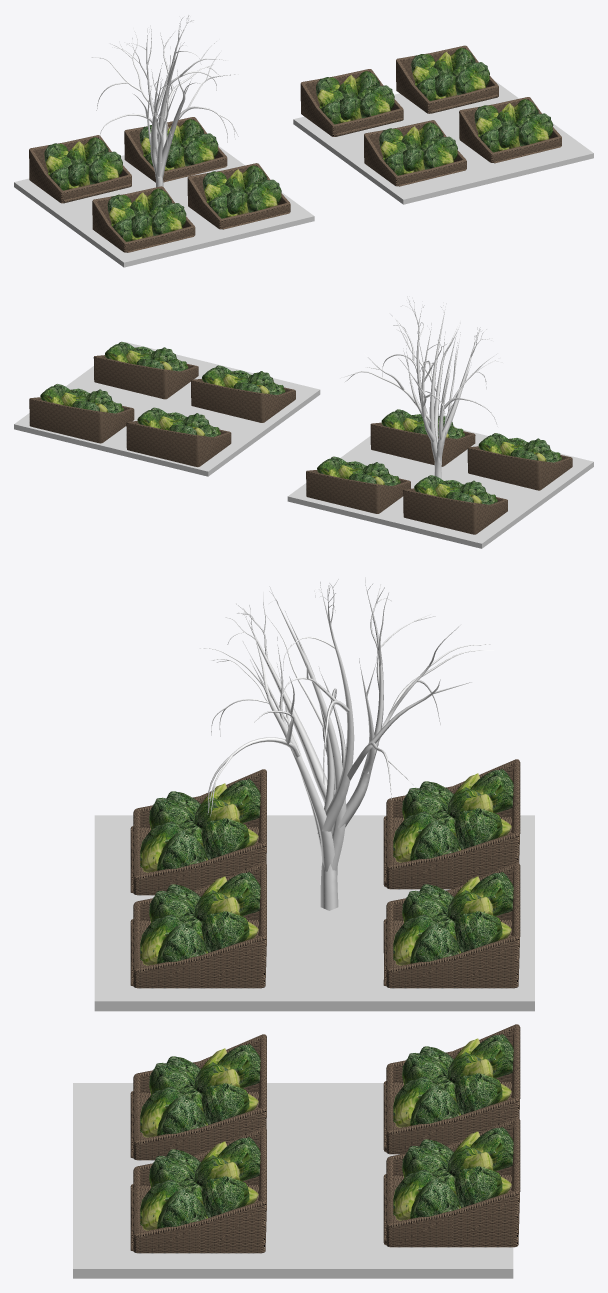
3 renders of one model, top to bottom at view 1: azimuth 30°, elevation 25°; view 2: azimuth 150°, elevation 25°; view 3: azimuth 270°, elevation 25°, orthographic. The views are drawn at different scales.
Visible parts, largest first — view 1: Cube.001, Cube, broccoli.005, broccoli.004, broccoli.006, broccoli.001, broccoli.002, broccoli.008, broccoli.007, dead tree2, broccoli.003; view 2: Cube, Cube.001, dead tree2, broccoli.005, broccoli.006, broccoli.004, broccoli.002, broccoli.008, broccoli.007, broccoli.003, broccoli.001; view 3: Cube.001, Cube, broccoli.006, dead tree2, broccoli.003, broccoli.001, broccoli.008, broccoli.004, broccoli.005, broccoli.007, broccoli.002.
Boxes of the visible parts, x1,y1,x2,y2 form: Cube.001: [293, 80, 593, 204]; Cube: [14, 146, 314, 267]; broccoli.005: [300, 69, 403, 136]; broccoli.004: [29, 135, 131, 203]; broccoli.006: [396, 45, 498, 113]; broccoli.001: [187, 163, 290, 229]; broccoli.002: [92, 186, 195, 252]; broccoli.008: [459, 97, 561, 163]; broccoli.007: [364, 120, 466, 186]; dead tree2: [92, 15, 238, 187]; broccoli.003: [124, 117, 227, 182]; Cube: [287, 430, 593, 548]; Cube.001: [14, 342, 320, 476]; dead tree2: [340, 296, 502, 479]; broccoli.005: [126, 407, 231, 467]; broccoli.006: [29, 384, 134, 443]; broccoli.004: [403, 475, 507, 534]; broccoli.002: [467, 433, 572, 490]; broccoli.008: [93, 341, 198, 399]; broccoli.007: [191, 365, 295, 422]; broccoli.003: [306, 456, 410, 513]; broccoli.001: [370, 409, 475, 466]; Cube.001: [73, 1083, 513, 1278]; Cube: [94, 815, 534, 1011]; broccoli.006: [383, 1117, 520, 1247]; dead tree2: [200, 577, 493, 910]; broccoli.003: [383, 862, 520, 988]; broccoli.001: [130, 862, 266, 988]; broccoli.008: [130, 1127, 266, 1253]; broccoli.004: [383, 759, 520, 889]; broccoli.005: [383, 1024, 520, 1154]; broccoli.007: [130, 1034, 266, 1160]; broccoli.002: [130, 769, 266, 895].
Size of the model in its own units: 19.5 by 7.23 by 8.39.
Materials: 19 (16 with a texture image).
